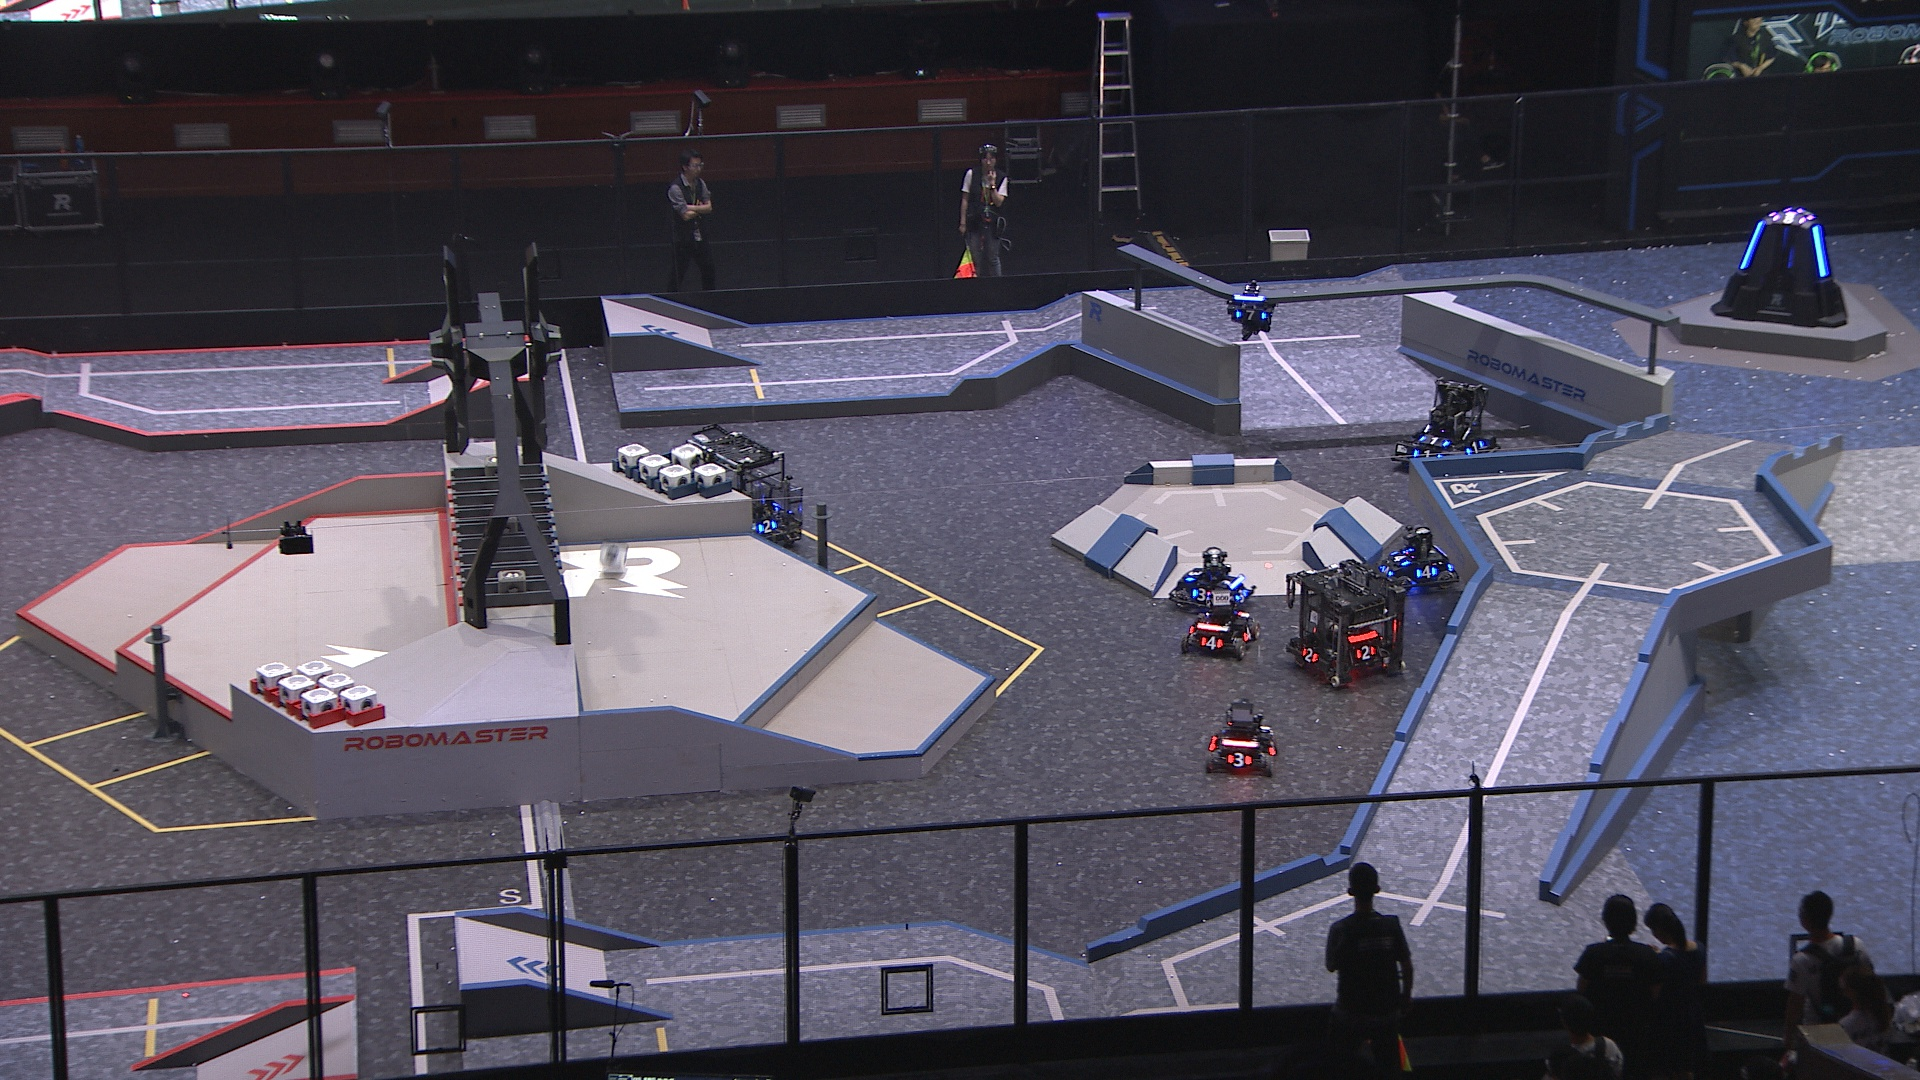armor: (1738, 220, 1766, 276), (1811, 224, 1832, 281), (1415, 562, 1441, 582), (1419, 433, 1453, 447), (1462, 438, 1487, 458), (1411, 446, 1444, 460), (1353, 642, 1377, 662), (1182, 566, 1205, 585), (1191, 588, 1216, 607), (1389, 547, 1411, 567), (1236, 309, 1266, 323), (754, 517, 779, 534), (1300, 646, 1321, 666), (1228, 752, 1253, 767), (1375, 560, 1395, 579), (1201, 636, 1224, 651), (1234, 585, 1249, 605), (1242, 622, 1254, 642)
base: (1709, 204, 1851, 332)
car: (1283, 556, 1410, 688), (680, 425, 806, 553), (1393, 377, 1505, 472), (1371, 520, 1470, 593), (1200, 695, 1280, 778), (1171, 546, 1257, 611), (1182, 591, 1259, 661)
ignore: (1774, 208, 1808, 228)
watcher: (1228, 280, 1276, 342)
